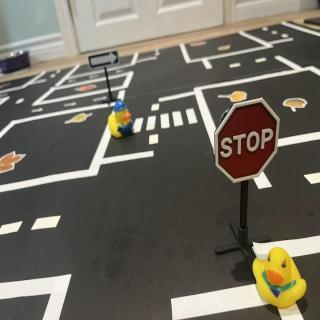duck_regular: (254, 249, 308, 310)
duck_specialty: (110, 103, 135, 140)
road_crosswalk: (134, 106, 202, 136)
road_oneway: (92, 97, 110, 104), (32, 108, 47, 116), (65, 103, 80, 110)
sign_oneway_right: (86, 47, 122, 72)
sign_stop: (215, 100, 281, 186)
